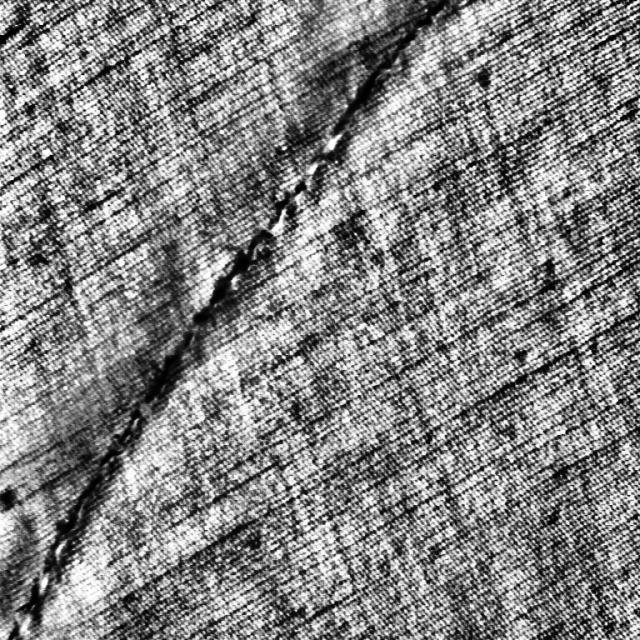Hole: (231, 124, 357, 255), (123, 314, 224, 437)
